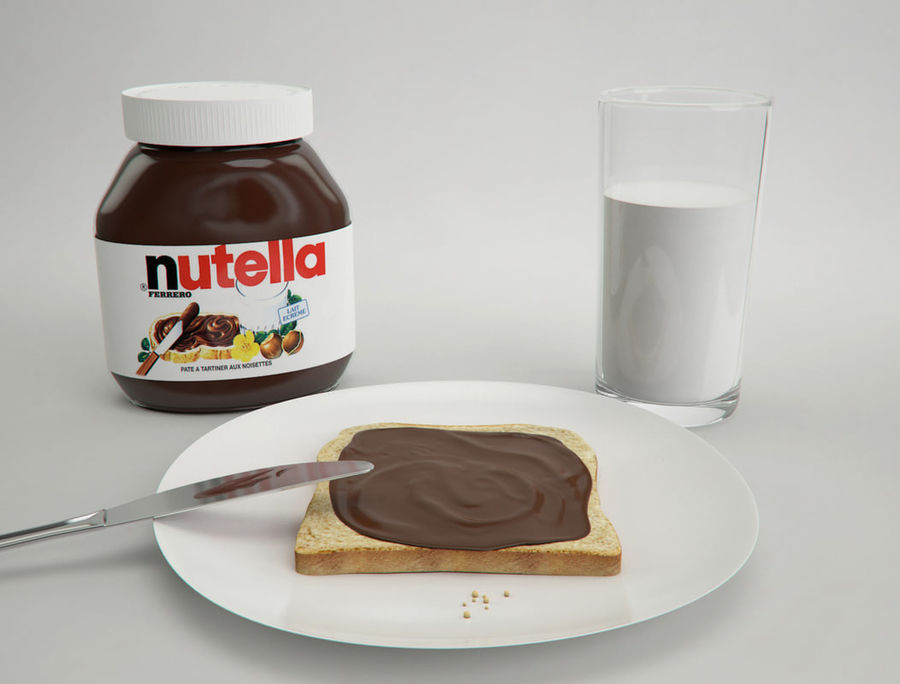glass of milk: (607, 110, 743, 408)
slice of bread: (332, 424, 618, 583)
